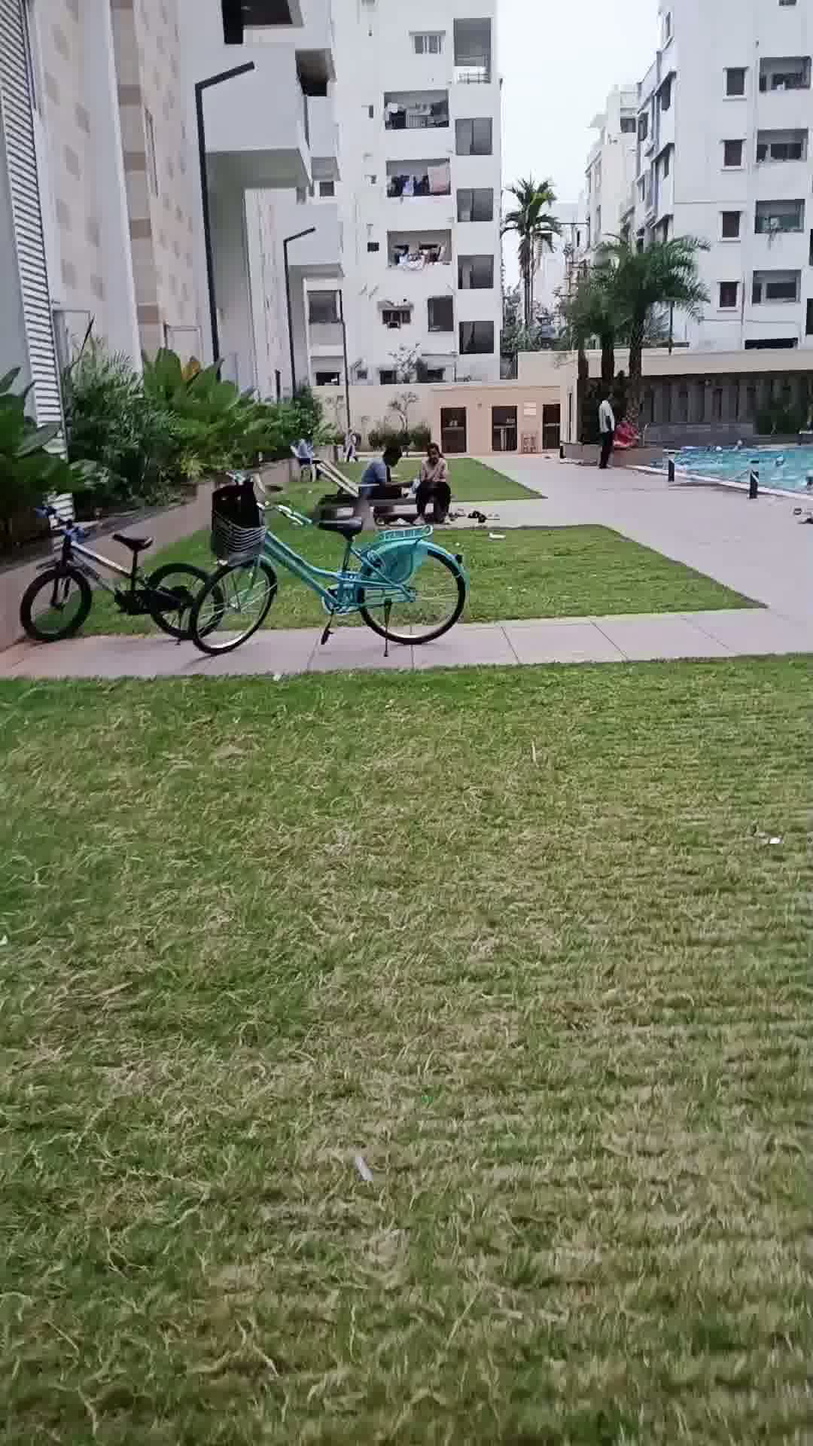bicycle: (191, 458, 467, 666), (17, 504, 228, 660)
person: (356, 433, 415, 515), (589, 370, 629, 484), (418, 433, 452, 515)
tree: (603, 231, 708, 458), (495, 165, 566, 356)
